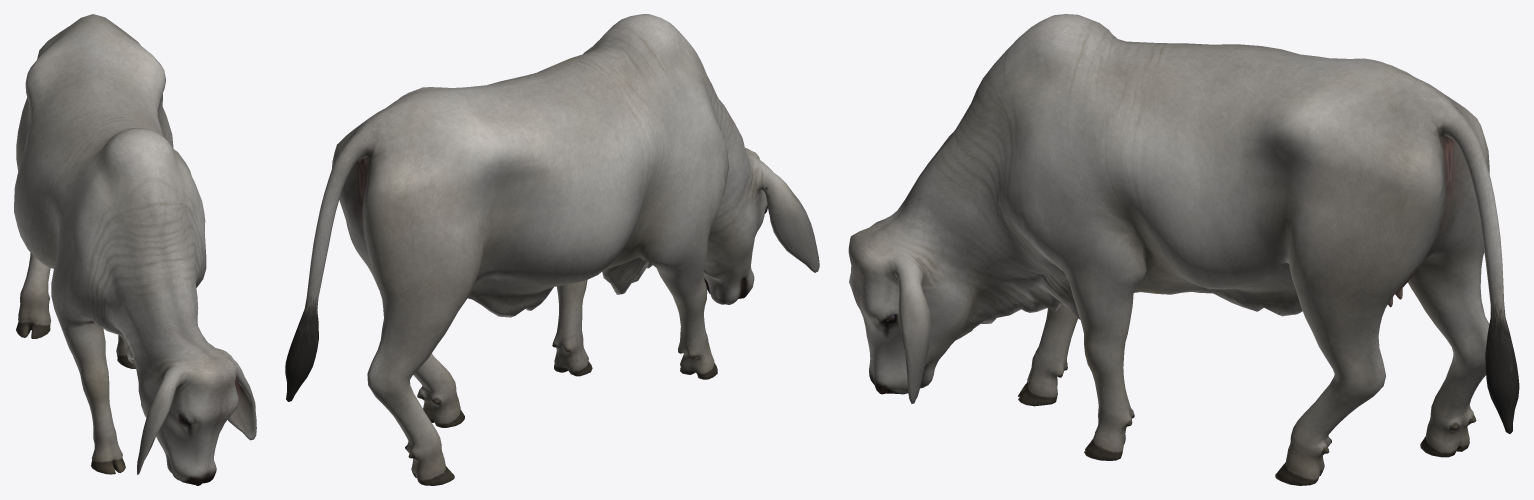
The model's file is cow1.glb.
3 views of the same model, side by side, from view 1: azimuth 30°, elevation 25°; view 2: azimuth 150°, elevation 25°; view 3: azimuth 270°, elevation 25° (orthographic). The views are drawn at different scales.
Visible parts, largest first — view 1: Brahman_cow_2; view 2: Brahman_cow_2; view 3: Brahman_cow_2.
Boxes of the visible parts, x1=… form: Brahman_cow_2: x1=14, y1=14, x2=256, y2=485; Brahman_cow_2: x1=285, y1=14, x2=819, y2=485; Brahman_cow_2: x1=848, y1=14, x2=1519, y2=485.
Bounding box in the file's own units: 113 × 149 × 224.
1 material, 1 textured.
